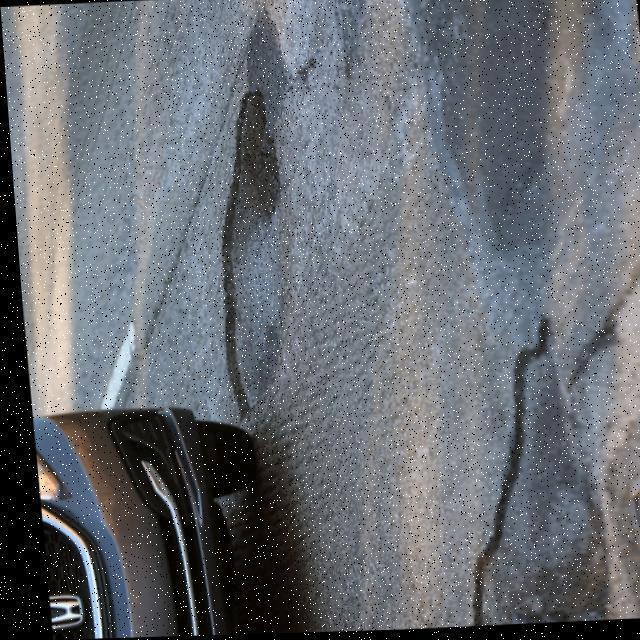Pothole: (471, 263, 640, 627), (222, 91, 281, 419)
